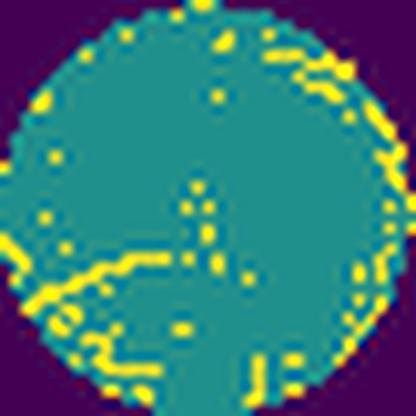Scratch: (17, 246, 175, 319), (79, 330, 169, 380)
